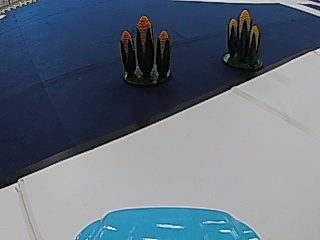corn: (117, 15, 175, 84), (222, 7, 265, 70)
